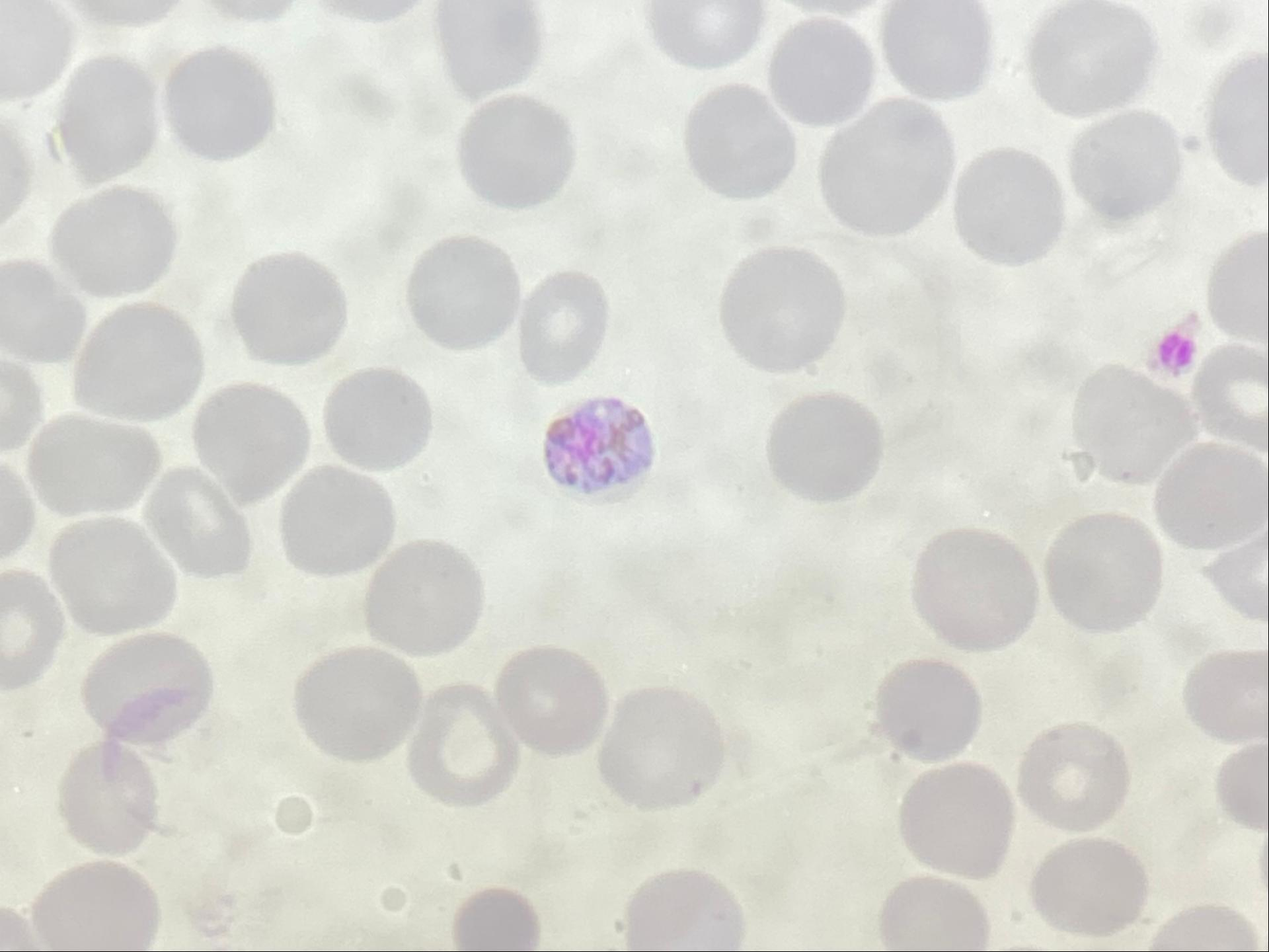Infected: (542, 392, 657, 500)
Uninfected: (818, 101, 951, 236), (70, 301, 205, 425), (44, 512, 178, 635), (78, 631, 210, 751), (596, 686, 722, 809), (718, 247, 842, 370), (909, 526, 1034, 648), (1069, 364, 1192, 484), (192, 380, 312, 502), (26, 409, 160, 518), (293, 646, 418, 762), (51, 186, 177, 300), (52, 54, 162, 182), (362, 540, 484, 655), (1044, 513, 1160, 633), (406, 686, 520, 807), (894, 763, 1013, 878), (278, 462, 397, 576), (1038, 0, 1155, 115), (407, 235, 521, 350), (457, 95, 572, 209), (143, 465, 258, 579), (683, 83, 796, 199), (163, 46, 275, 163), (230, 251, 347, 363), (1066, 106, 1187, 214), (1153, 441, 1266, 555), (952, 146, 1063, 262), (767, 392, 882, 502), (1018, 722, 1130, 832), (494, 647, 607, 756), (58, 741, 164, 855), (874, 656, 986, 762), (322, 366, 432, 473), (1029, 837, 1147, 936), (884, 0, 993, 102), (767, 19, 872, 122), (29, 861, 156, 945), (516, 271, 607, 380), (436, 1, 541, 95), (623, 870, 740, 951), (1, 258, 85, 365), (1191, 345, 1269, 456), (1182, 648, 1266, 747), (879, 876, 994, 948), (648, 2, 759, 68), (1206, 234, 1267, 348), (452, 885, 538, 947)
